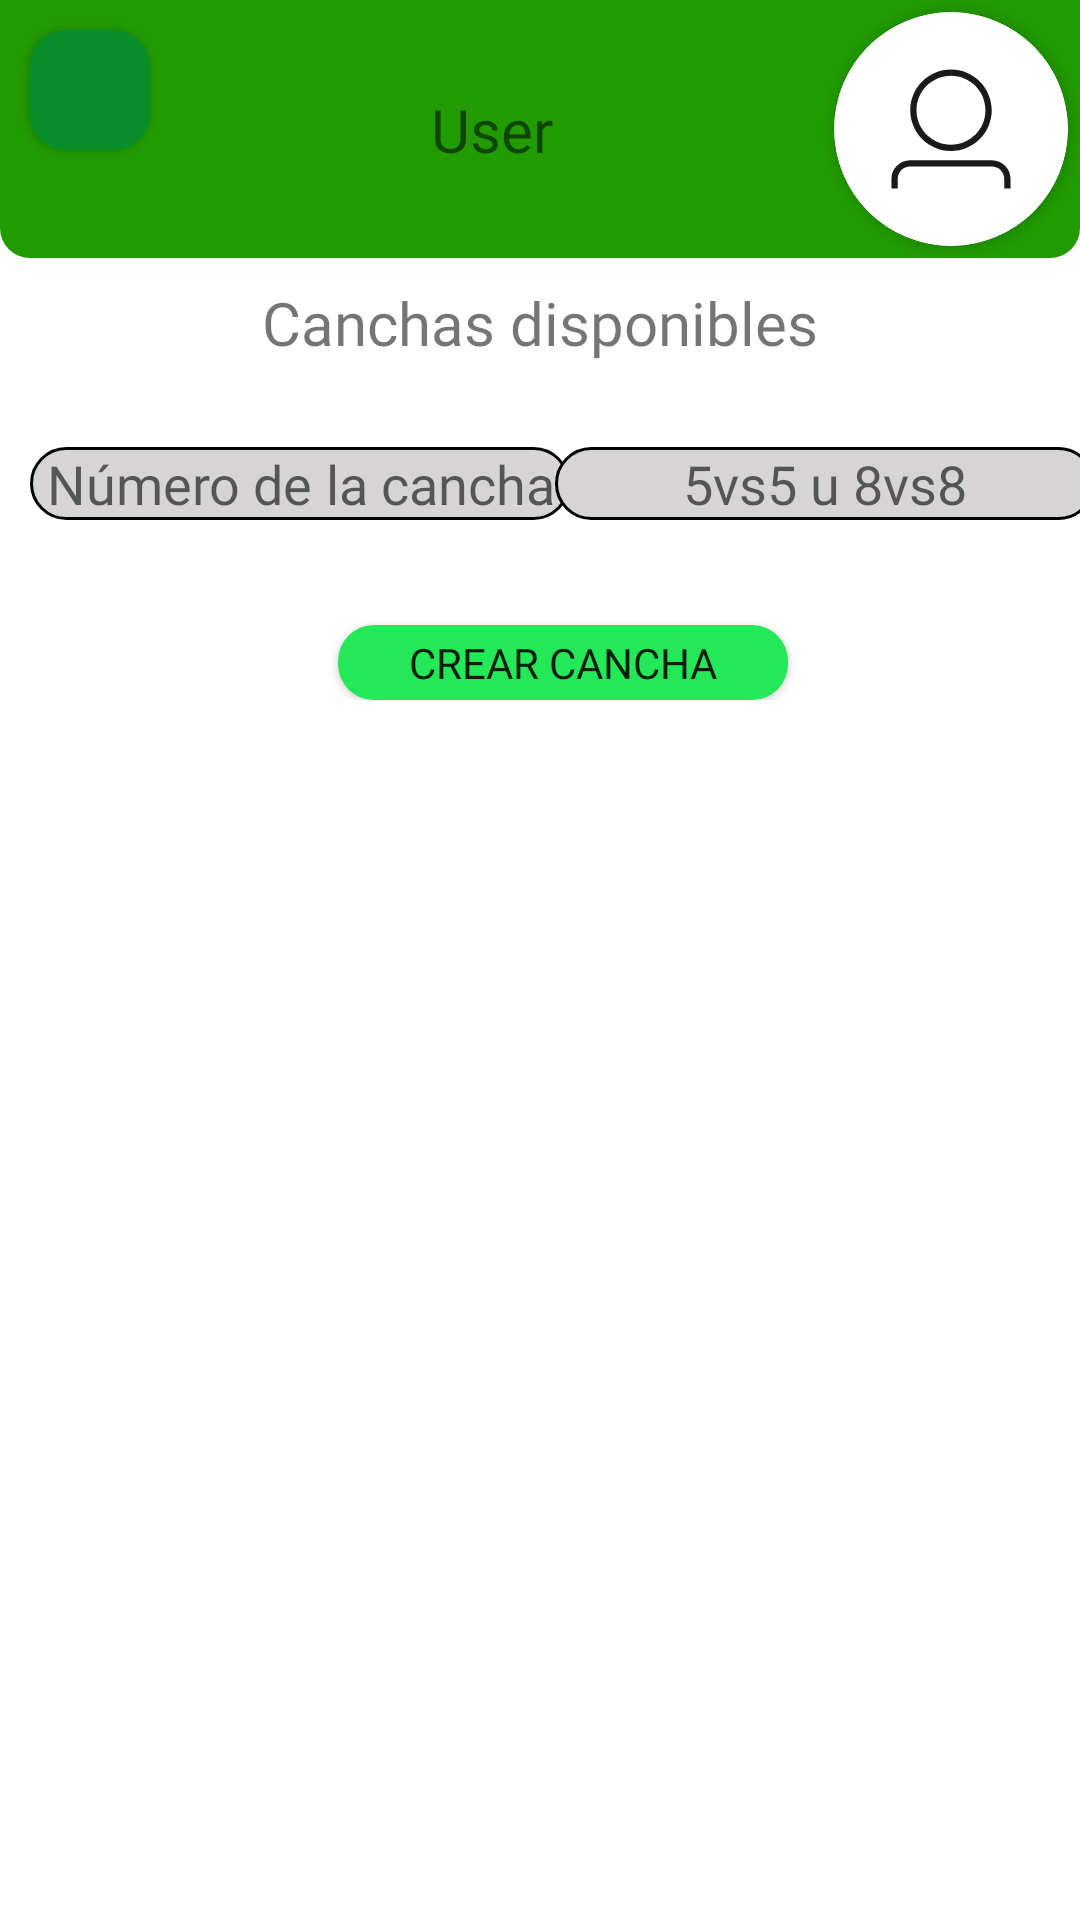

Icon click points for this 1080px×1920px phone screenshot, format [x,y]:
user: [951,129]
